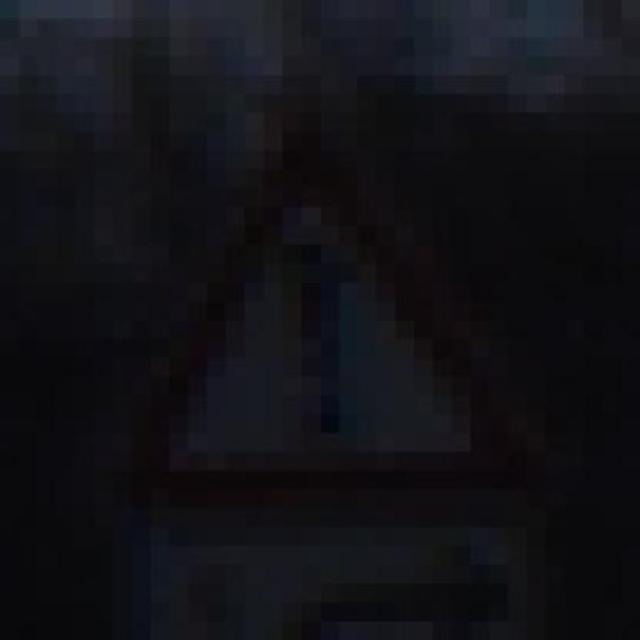Attention Please-: (75, 132, 528, 508)
